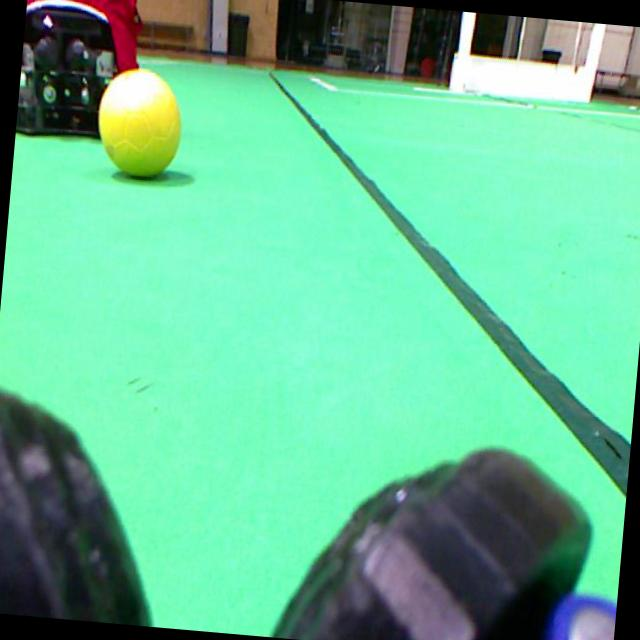ball: (98, 68, 180, 175)
goal: (581, 23, 606, 101), (454, 11, 474, 91)
